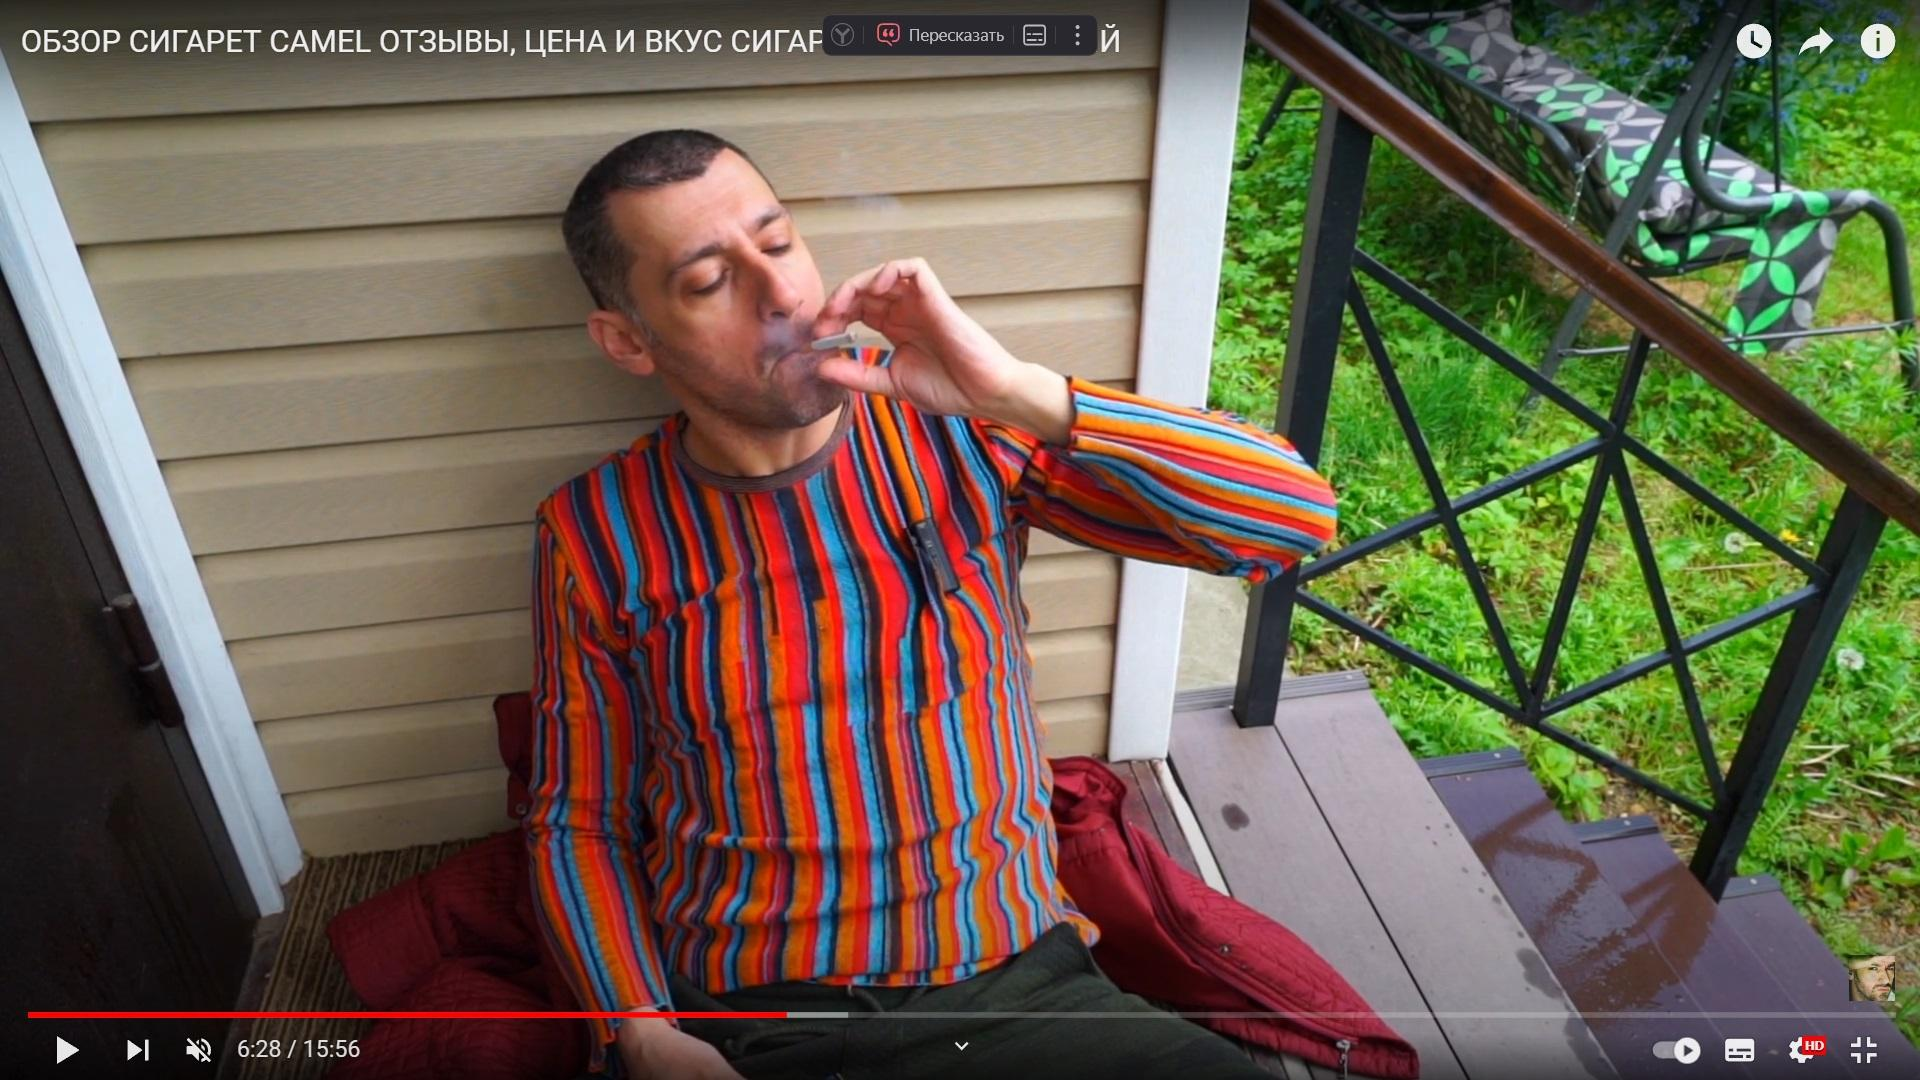cigarette: (794, 332, 857, 352)
